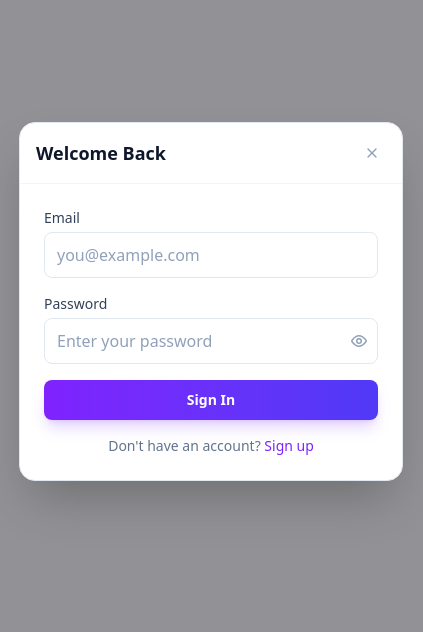
AuthModal › shows password mismatch error
The width and height of the screenshot is (423, 632).
Click the button "Sign up" at (289, 446), box [264,436,314,456]
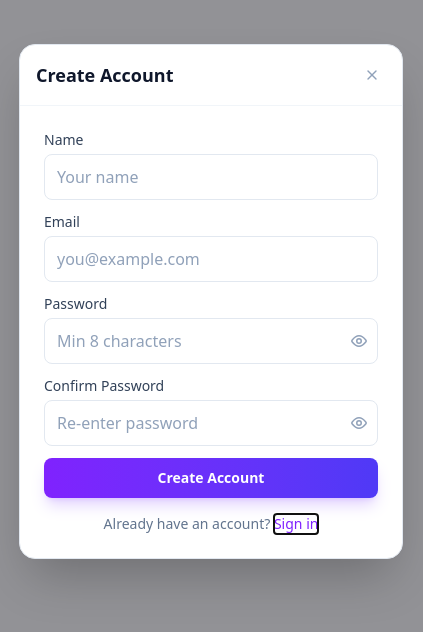
Type "Test" into the field with placeholder "Your name" at (211, 176), box [44,154,378,200]
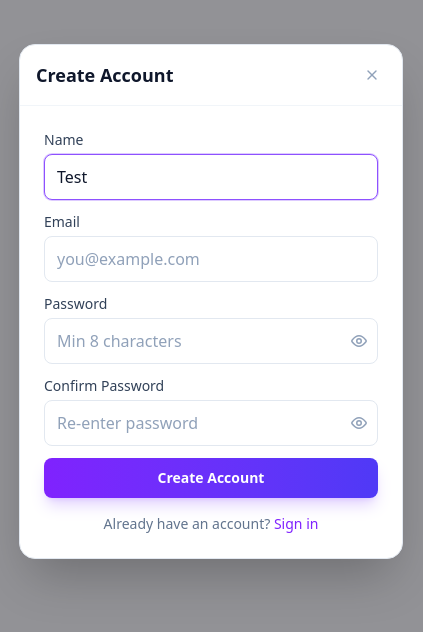
Type "test@test.com" into the field with placeholder "you@example.com" at (211, 258), box [44,236,378,282]
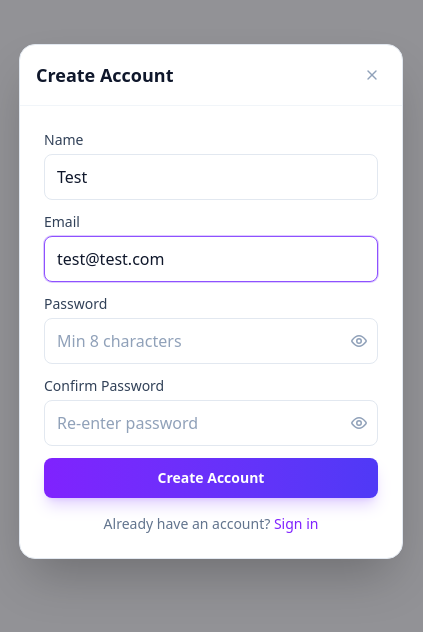
Type "password123" into the password field with placeholder "Min 8 characters" at (211, 340), box [44,318,378,364]
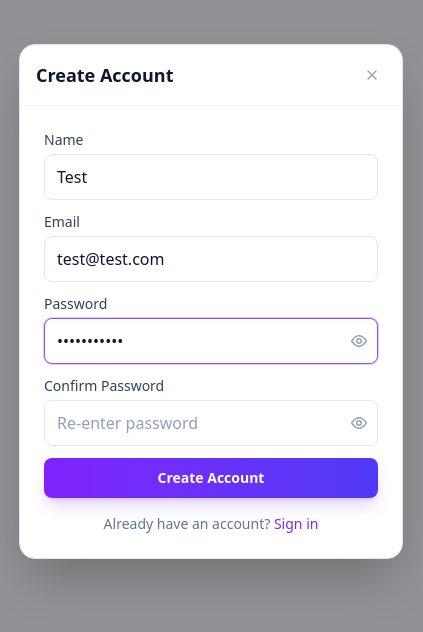
Type "different1" into the password field with placeholder "Re-enter password" at (211, 422), box [44,400,378,446]
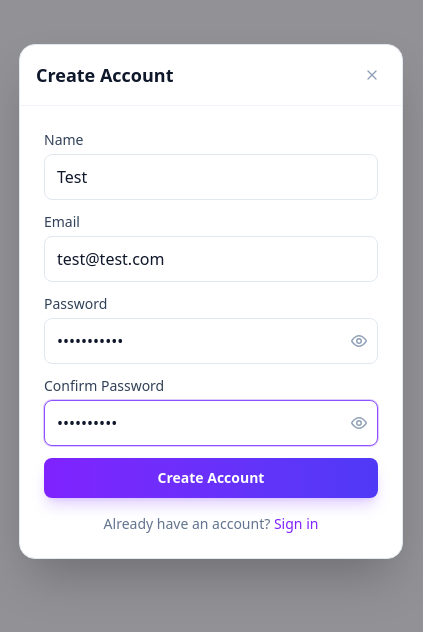
Submit the form, box [44,130,378,498]
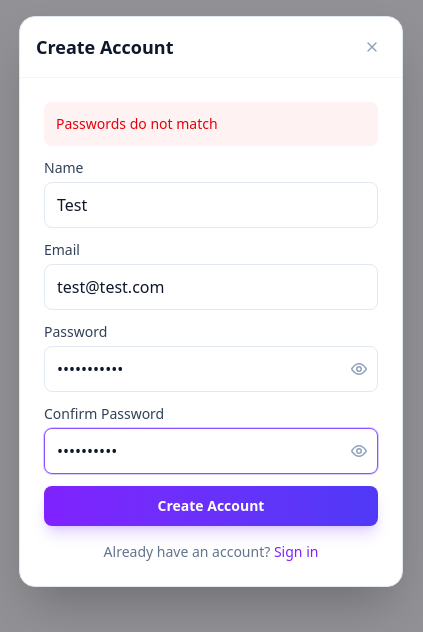
Expected: the text "Passwords do not match" is shown, [44,102,378,146]
